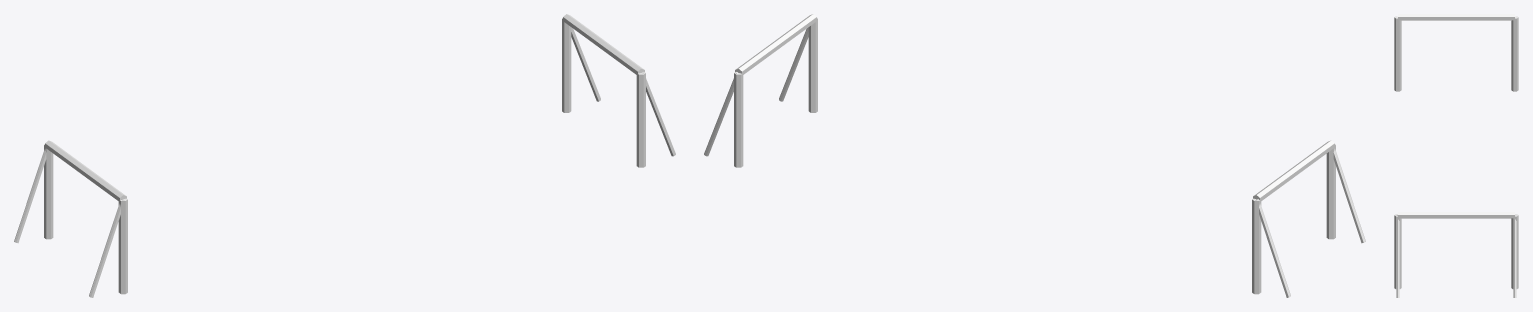
The picture shows the model from 3 angles, left to right: view 1: azimuth 30°, elevation 25°; view 2: azimuth 150°, elevation 25°; view 3: azimuth 270°, elevation 25°; orthographic projection. The views are drawn at different scales.
Visible parts, largest first — view 1: Goal post.002, Goal post, Crossbar.001, Crossbar, Goal post.003, Goal post.001, Net support, Net support.001, Net support.002; view 2: Goal post.003, Goal post.001, Crossbar, Crossbar.001, Goal post.002, Goal post, Net support.001, Net support, Net support.003; view 3: Crossbar, Crossbar.001, Goal post.001, Goal post, Goal post.003, Goal post.002, Net support.002, Net support.003.
Boxes of the visible parts, left/top/right/bottom form: Goal post.002: left=636, top=72, right=645, bottom=167; Goal post: left=118, top=198, right=127, bottom=294; Crossbar.001: left=563, top=14, right=644, bottom=74; Crossbar: left=45, top=140, right=126, bottom=201; Goal post.003: left=562, top=17, right=571, bottom=112; Goal post.001: left=44, top=144, right=53, bottom=239; Net support: left=89, top=199, right=124, bottom=297; Net support.001: left=14, top=149, right=46, bottom=243; Net support.002: left=642, top=71, right=675, bottom=156; Goal post.003: left=734, top=72, right=743, bottom=167; Goal post.001: left=1252, top=198, right=1261, bottom=294; Crossbar: left=1253, top=140, right=1334, bottom=201; Crossbar.001: left=735, top=14, right=816, bottom=75; Goal post.002: left=808, top=17, right=817, bottom=112; Goal post: left=1326, top=144, right=1335, bottom=239; Net support.001: left=1255, top=199, right=1290, bottom=297; Net support: left=1333, top=149, right=1365, bottom=243; Net support.003: left=704, top=71, right=737, bottom=156; Crossbar: left=1398, top=14, right=1514, bottom=20; Crossbar.001: left=1398, top=212, right=1514, bottom=218; Goal post.001: left=1511, top=16, right=1518, bottom=91; Goal post: left=1394, top=16, right=1401, bottom=91; Goal post.003: left=1511, top=214, right=1518, bottom=288; Goal post.002: left=1394, top=214, right=1401, bottom=288; Net support.002: left=1396, top=215, right=1399, bottom=297; Net support.003: left=1513, top=215, right=1516, bottom=297.
Bounding box in the file's own units: 363 × 57.5 × 85.
